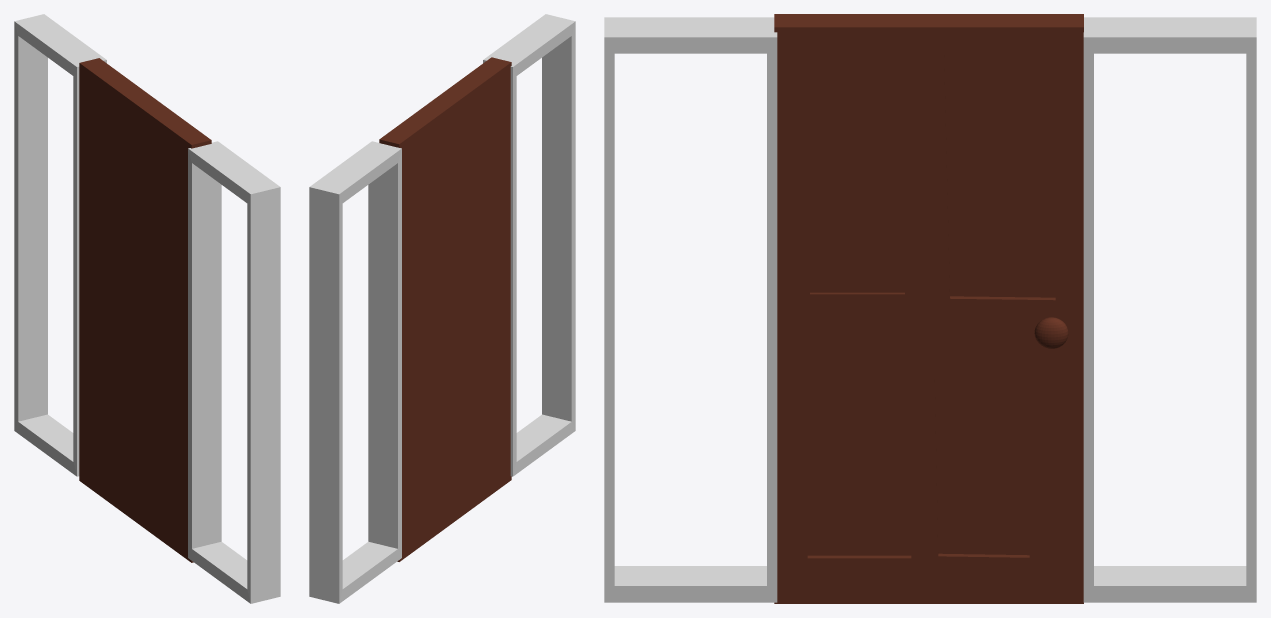
Rendered from door-front.fbx.
3 views of the same model, side by side, from view 1: azimuth 30°, elevation 25°; view 2: azimuth 150°, elevation 25°; view 3: azimuth 270°, elevation 25° (orthographic). The views are drawn at different scales.
Visible parts, largest first — view 1: Cube.002, Cube.001, Cube; view 2: Cube.002, Cube, Cube.001; view 3: Cube.002, Cube, Cube.001.
Part boxes in pixels (x1,y1,x2,y2): Cube.002: [79, 58, 211, 562]; Cube.001: [188, 141, 280, 603]; Cube: [14, 14, 106, 476]; Cube.002: [379, 57, 511, 561]; Cube: [309, 141, 401, 603]; Cube.001: [483, 14, 575, 476]; Cube.002: [774, 14, 1083, 603]; Cube: [1083, 17, 1256, 602]; Cube.001: [604, 17, 777, 602].
Size of the model in its own units: 60.53 by 736 by 754.
